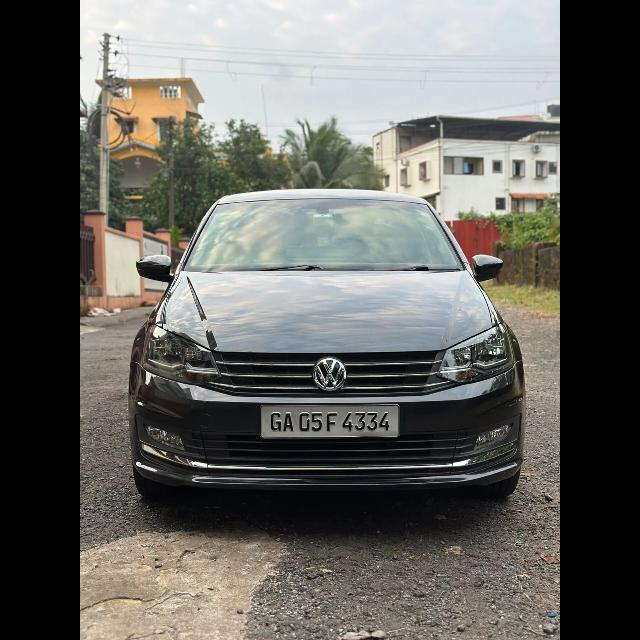number-plate: (258, 407, 400, 437)
vehicles: (131, 179, 526, 506)
